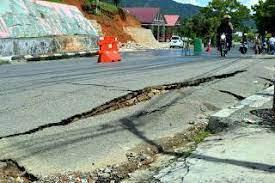Pothole: (0, 72, 275, 124), (69, 136, 275, 183), (0, 136, 54, 183)
